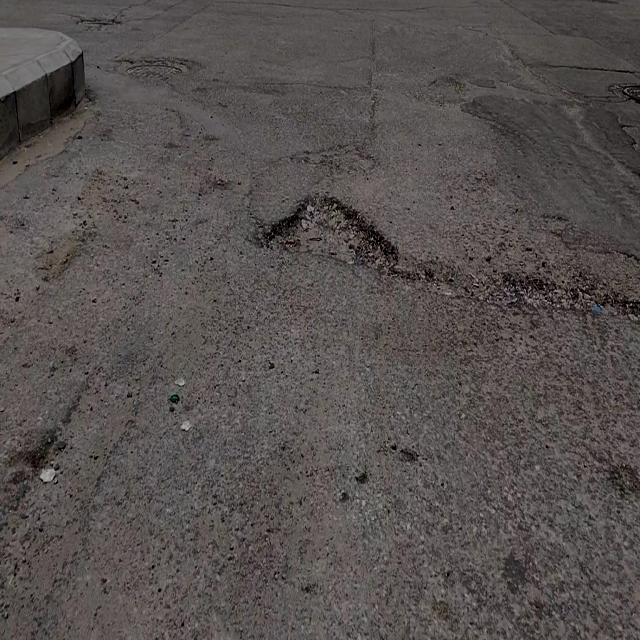Potholes: (264, 189, 400, 275)
